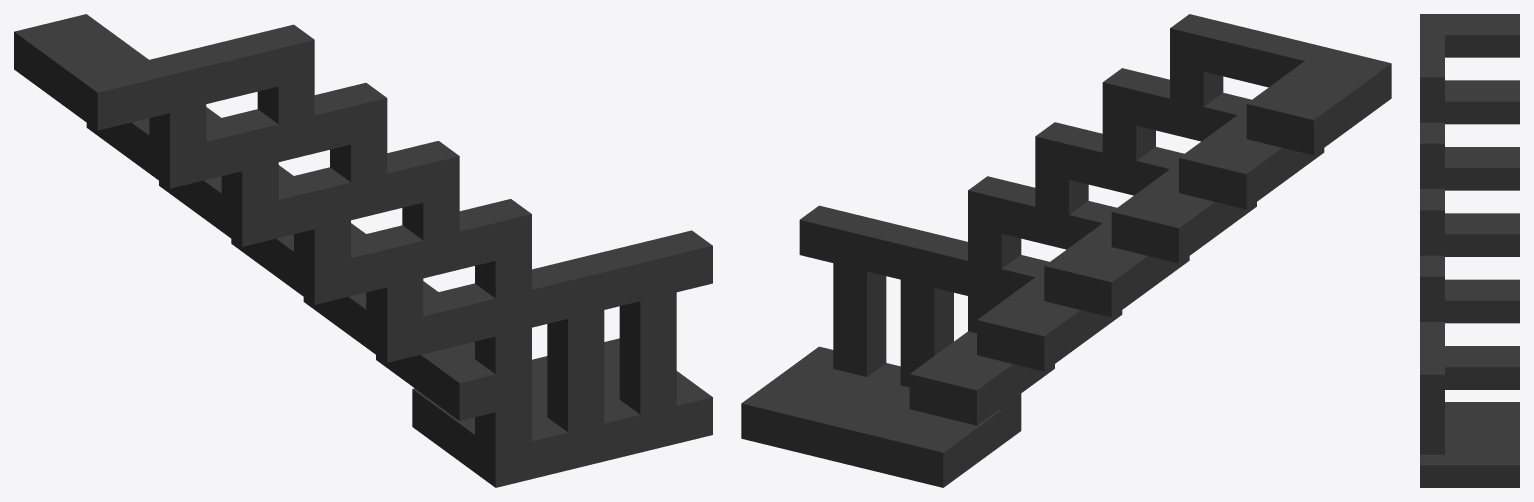
The model's file is palazzo24.glb.
3 views of the same model, side by side, from view 1: azimuth 30°, elevation 25°; view 2: azimuth 150°, elevation 25°; view 3: azimuth 270°, elevation 25° (orthographic). The views are drawn at different scales.
Visible parts, largest first — view 1: Scale.Sx; view 2: Scale.Sx; view 3: Scale.Sx.
Boxes of the visible parts, box(x1,y1,x2,y2) form: Scale.Sx: box(14, 14, 712, 487); Scale.Sx: box(741, 14, 1391, 487); Scale.Sx: box(1420, 14, 1519, 487).
Size of the model in its own units: 17 by 13 by 4.
Materials: 1 (1 with a texture image).
